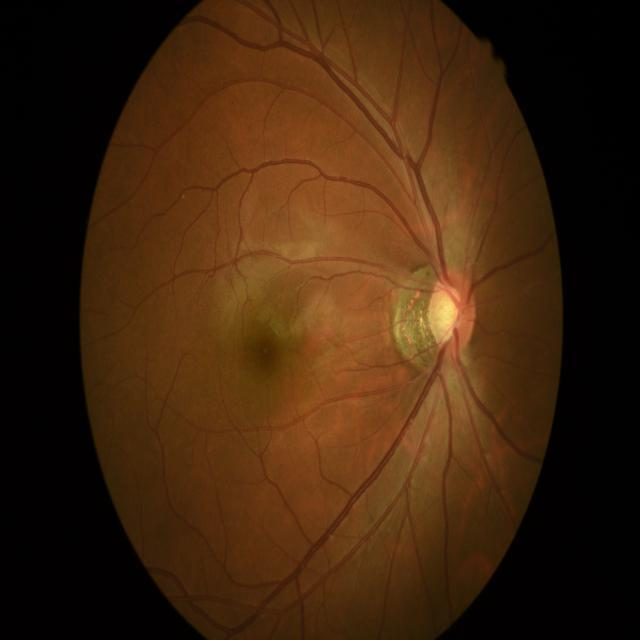cup: (430, 284, 460, 344)
disk: (428, 269, 476, 354)
